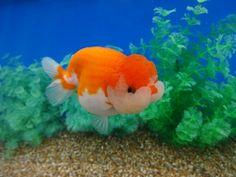goldfish: (45, 46, 171, 130)
